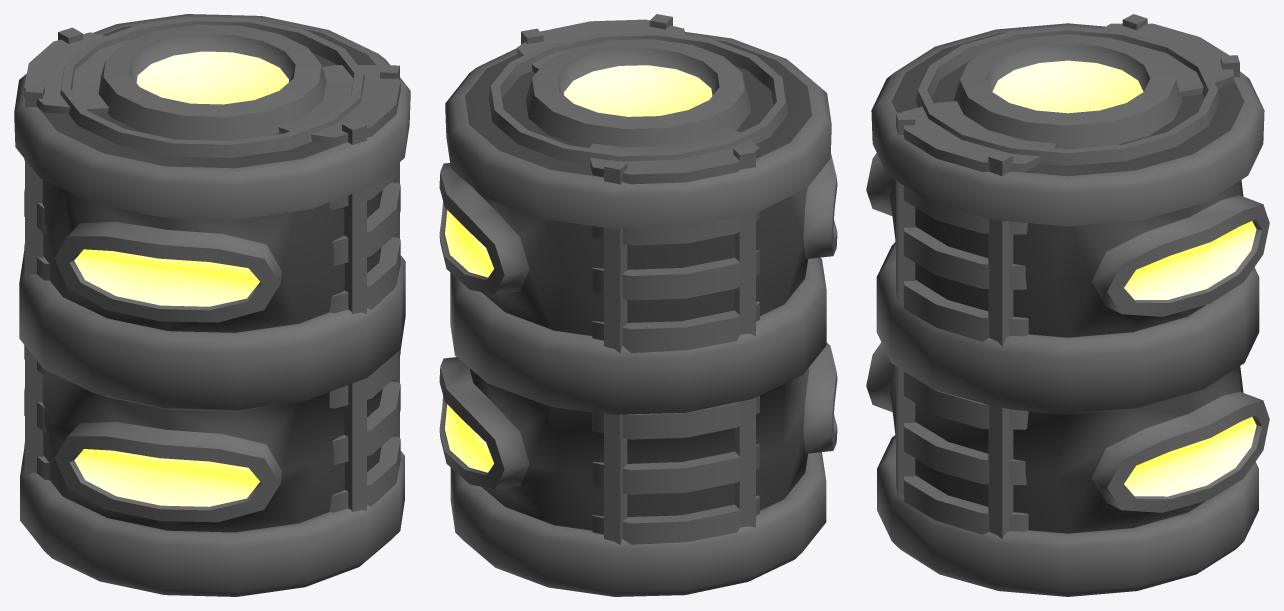
File: mesh_Spaceship_Trap_Barrel.fbx
3 views of the same model, side by side, from view 1: azimuth 30°, elevation 25°; view 2: azimuth 150°, elevation 25°; view 3: azimuth 270°, elevation 25° (orthographic). The views are drawn at different scales.
Parts seen in each view (by area): view 1: mesh_Spaceship_Trap_Barrel; view 2: mesh_Spaceship_Trap_Barrel; view 3: mesh_Spaceship_Trap_Barrel.
Boxes of the visible parts, x1=… form: mesh_Spaceship_Trap_Barrel: x1=14, y1=14, x2=410, y2=596; mesh_Spaceship_Trap_Barrel: x1=439, y1=14, x2=837, y2=596; mesh_Spaceship_Trap_Barrel: x1=866, y1=14, x2=1269, y2=596.
Bounding box in the file's own units: 210 × 254 × 210.
